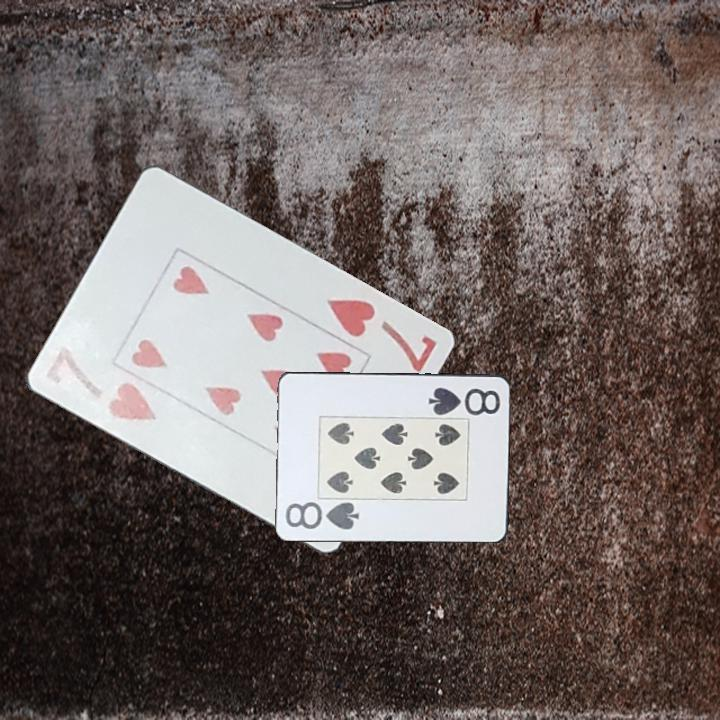7h: (41, 342, 159, 424), (322, 295, 439, 376)
8s: (282, 498, 362, 532), (425, 383, 503, 416)
